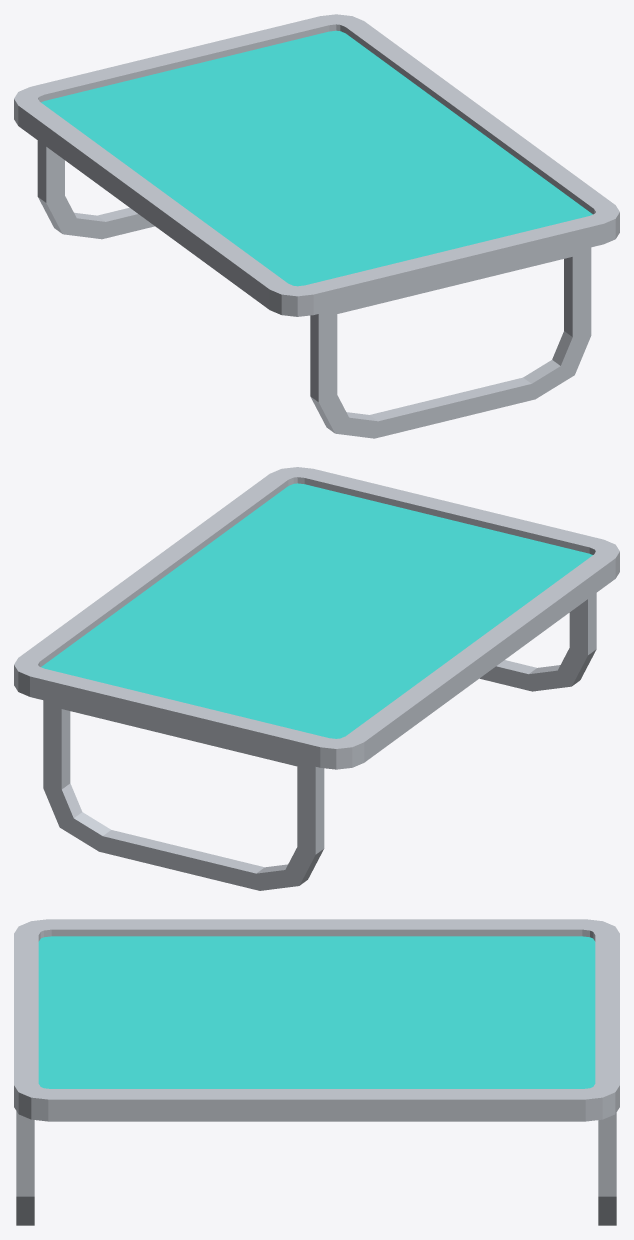
The model's file is Table.fbx.
The picture shows the model from 3 angles, top to bottom: view 1: azimuth 30°, elevation 25°; view 2: azimuth 150°, elevation 25°; view 3: azimuth 270°, elevation 25°; orthographic projection. The views are drawn at different scales.
Visible parts, largest first — view 1: Cube.003; view 2: Cube.003; view 3: Cube.003.
Part boxes in pixels (x1,y1,x2,y2): Cube.003: [14, 14, 619, 438]; Cube.003: [14, 467, 619, 890]; Cube.003: [14, 919, 619, 1225].
Size of the model in its own units: 131 by 57.92 by 186.
